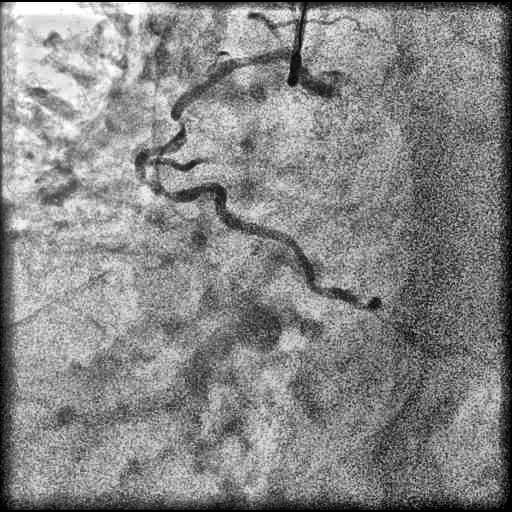rca: (135, 47, 355, 303)
